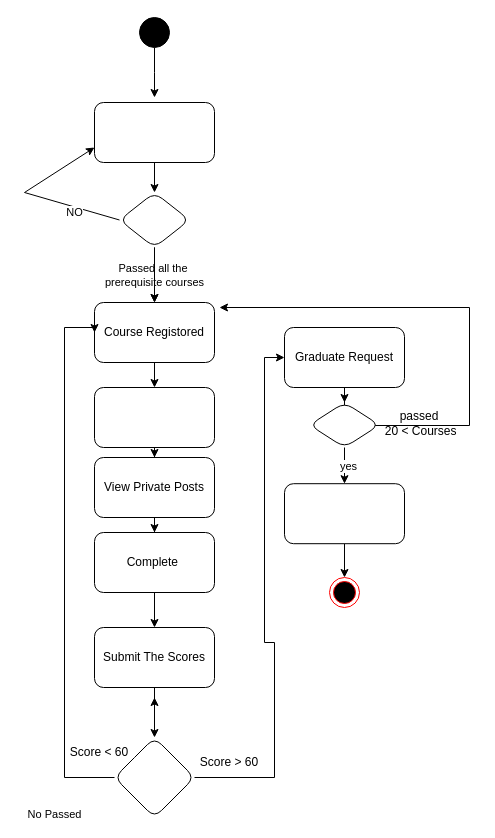
The diagram is 495 pixels wide and 838 high, and some of its shapes have lost their labels. The centre of each missing label's shape, as x and y in pixels:
Degree Graduation: point 344,513
Register Course: point 154,132
View Lecture: point 154,417
